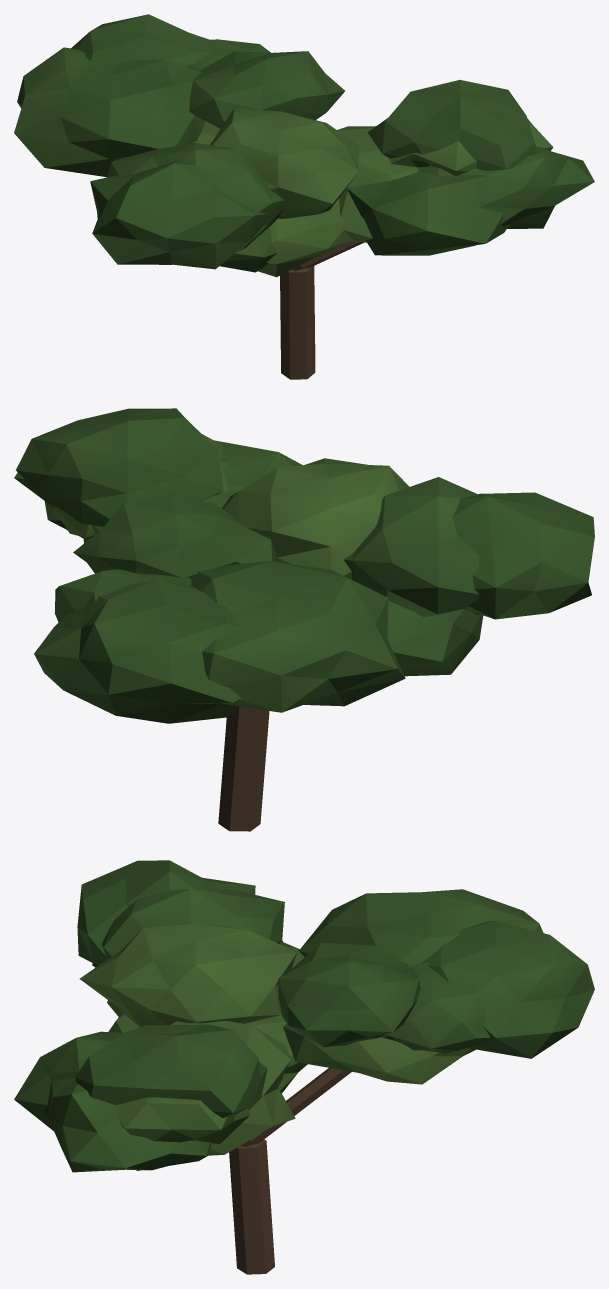
Rendered from veg_ek_0.glb.
3 renders of one model, top to bottom at view 1: azimuth 30°, elevation 25°; view 2: azimuth 150°, elevation 25°; view 3: azimuth 270°, elevation 25°, orthographic. The views are drawn at different scales.
Parts seen in each view (by area): view 1: geometry_0; view 2: geometry_0; view 3: geometry_0.
Boxes of the visible parts, <box> form: geometry_0: <box>14,14,594,379</box>; geometry_0: <box>14,408,594,831</box>; geometry_0: <box>14,860,594,1274</box>.
Size of the model in its own units: 1.75 by 1 by 1.69.
